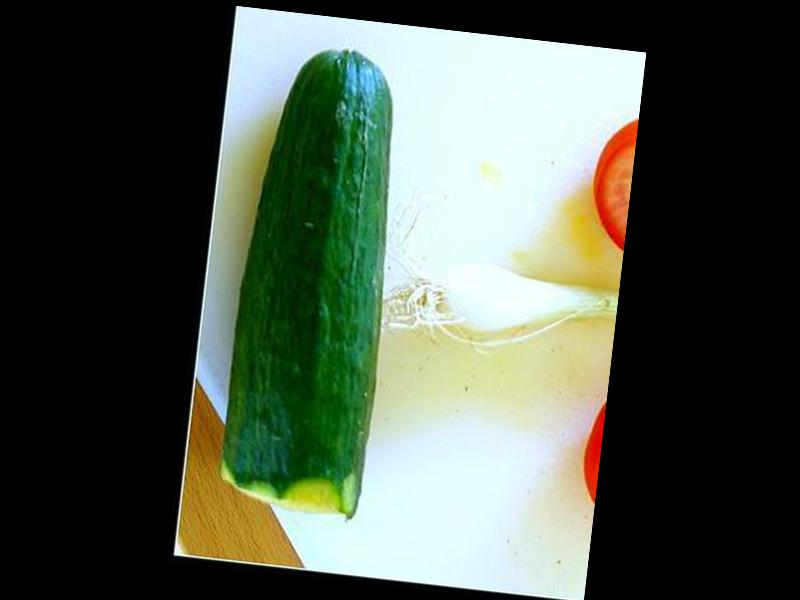Cucumber: (214, 37, 410, 520)
